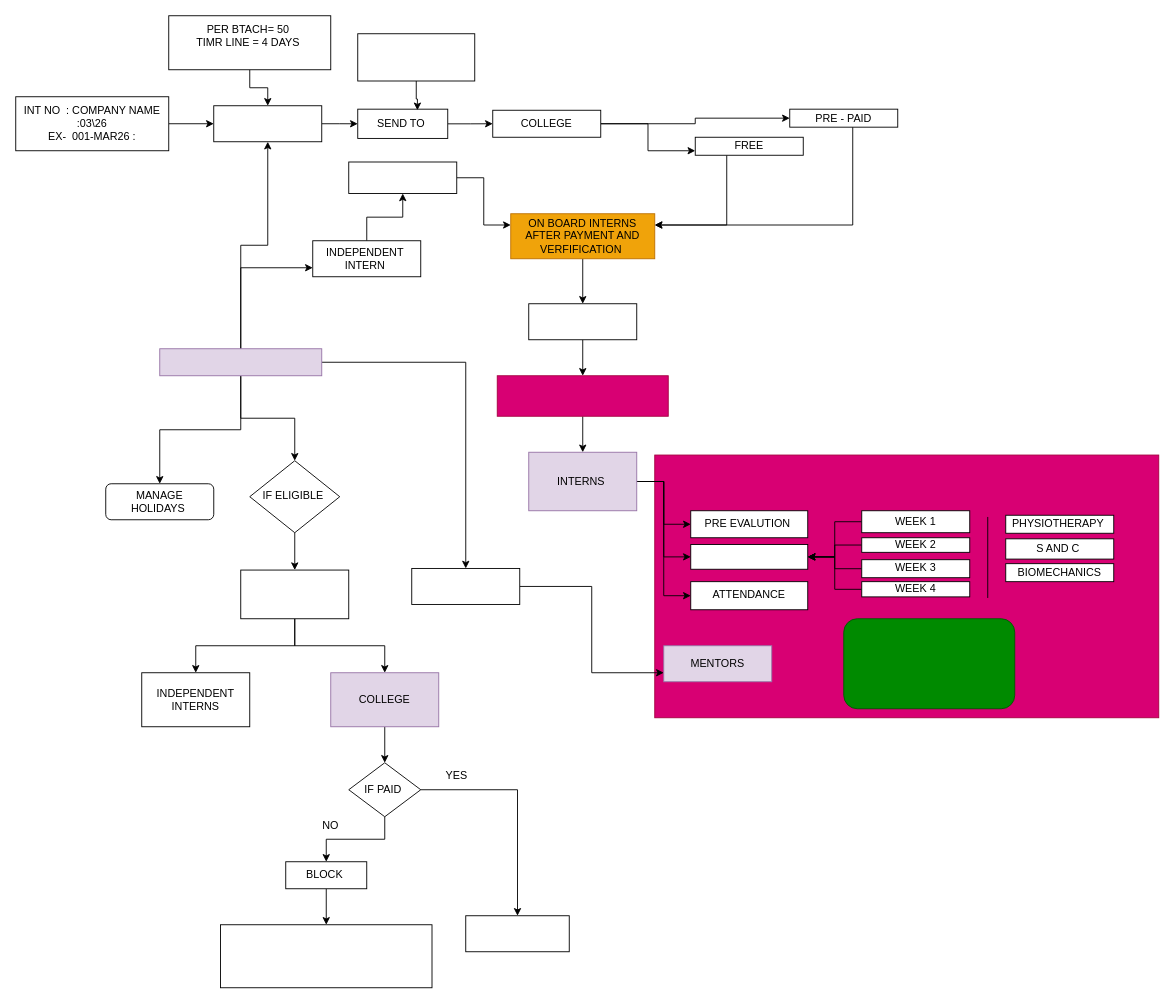
The diagram is 1175 pixels wide and 1004 high, and some of its shapes have lost their labels. The shapes that lost their labels are listed below. From the top down, each one's centre as x and y in pixels, then its label:
pixel 416 57: COLLEGE SIGNED MOU
pixel 267 123: CREATE A BATCH LINK
pixel 402 177: REGISTERS
pixel 582 321: IT TEAM
pixel 240 362: INTERN CO-ORDINATOR
pixel 582 395: LOGIN CREDENTIALS WILL BE SENT TO THIRE MAIL ID
pixel 749 556: WEEKLY EVALUTION
pixel 294 594: ISSUE CERTICFICATE TO INTERNS
pixel 465 586: ASSIGN WEEKLY MENTORS
pixel 929 663: EVERY 6TH DAY OF THE WEEK , A TEST WILL BE COCNDUCTED
pixel 517 933: ISSUE CERTIFICATE
pixel 326 956: SEND A MAIL TO PAY THE FEES TO UNBLOCK THE CERTIFCATE
